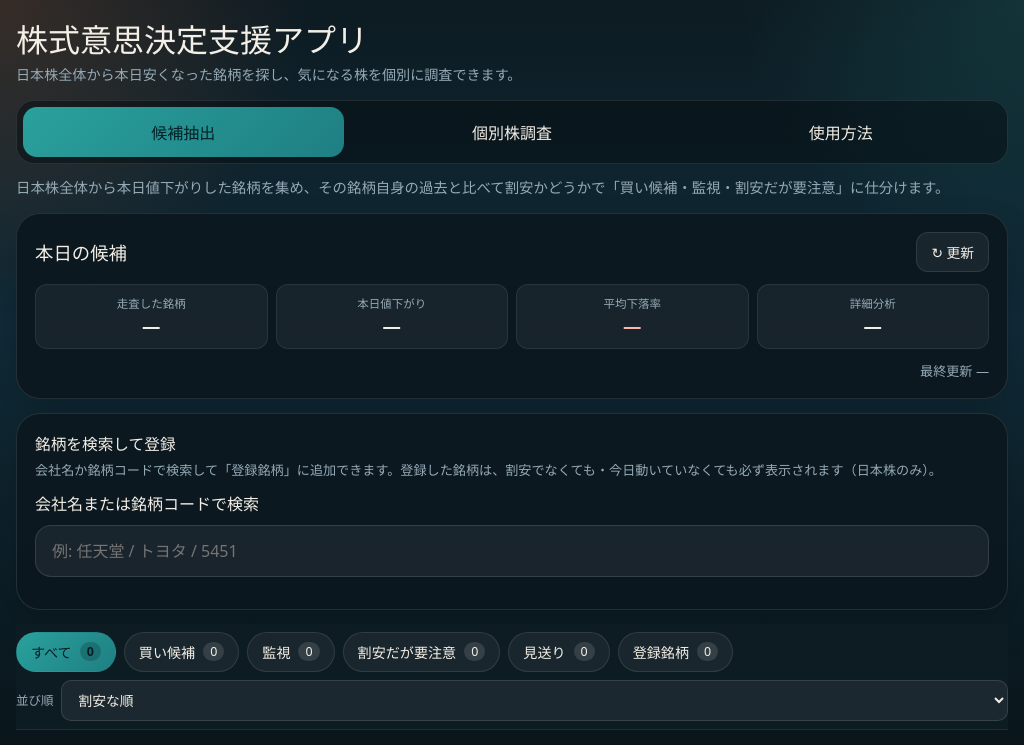
Scenario: App › 未実行のときは進捗100%や英語の状態を出さない
Click the tab "個別株調査" at coordinates (512, 132), box [352, 107, 672, 157]
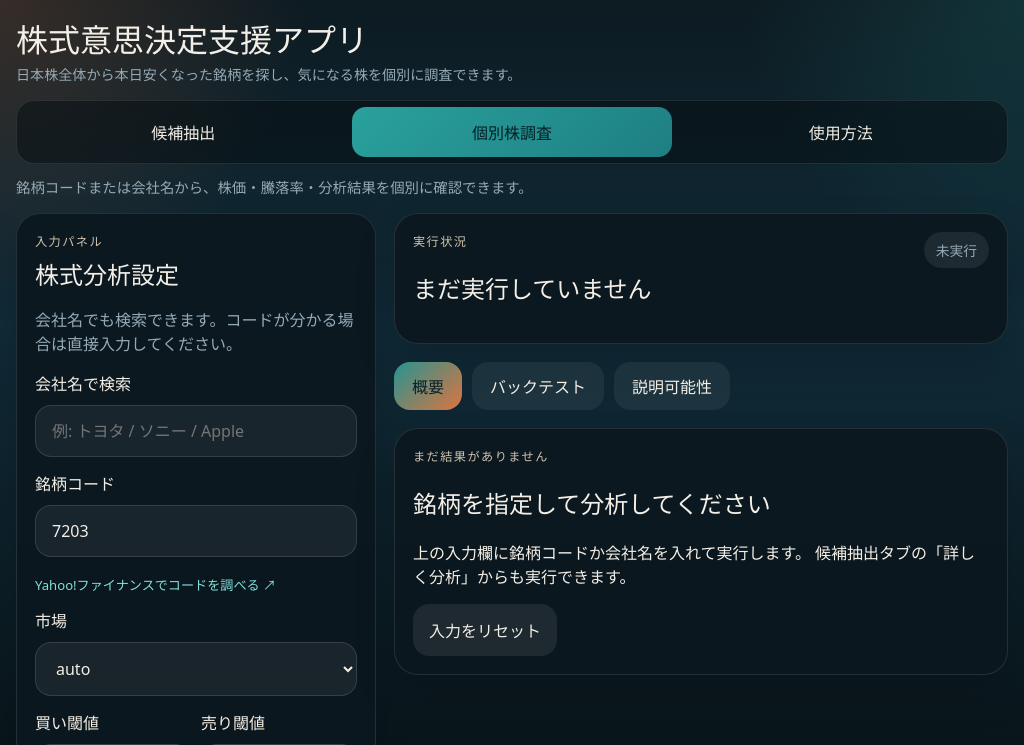
Expected: the text "未実行" is shown, [924, 232, 989, 268]
